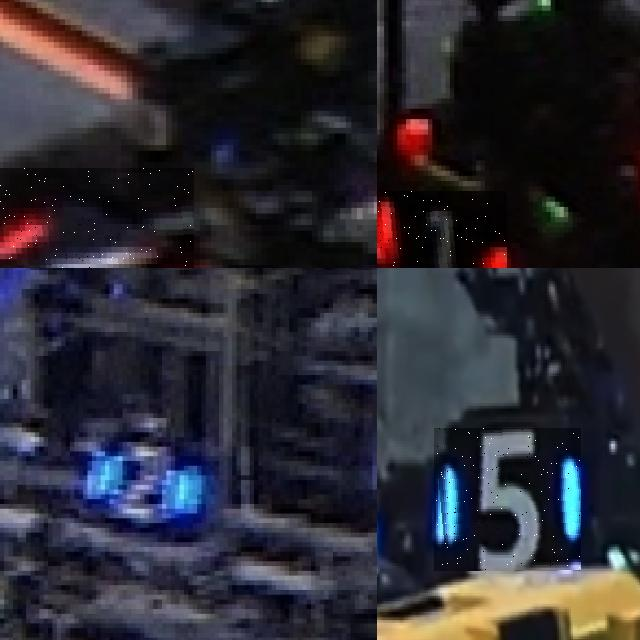B2: (79, 432, 201, 523)
B5: (434, 428, 581, 571)
R1: (377, 191, 506, 268)
R4: (0, 167, 194, 268)
